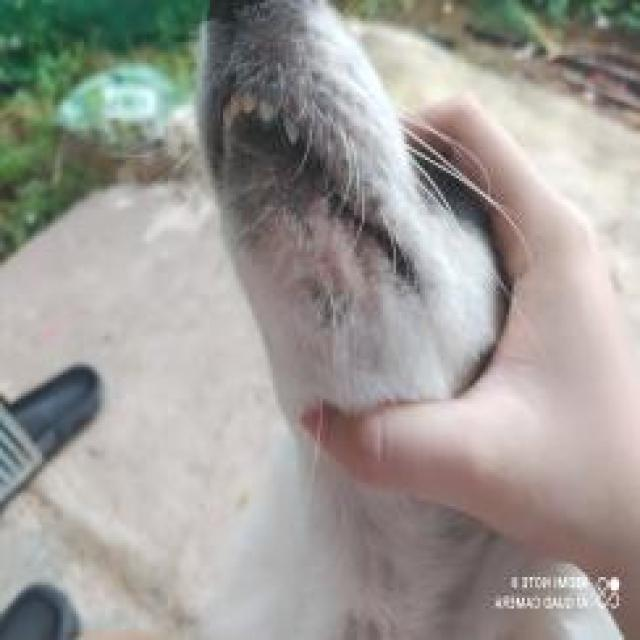allergic dermatitis: (246, 198, 371, 344)
